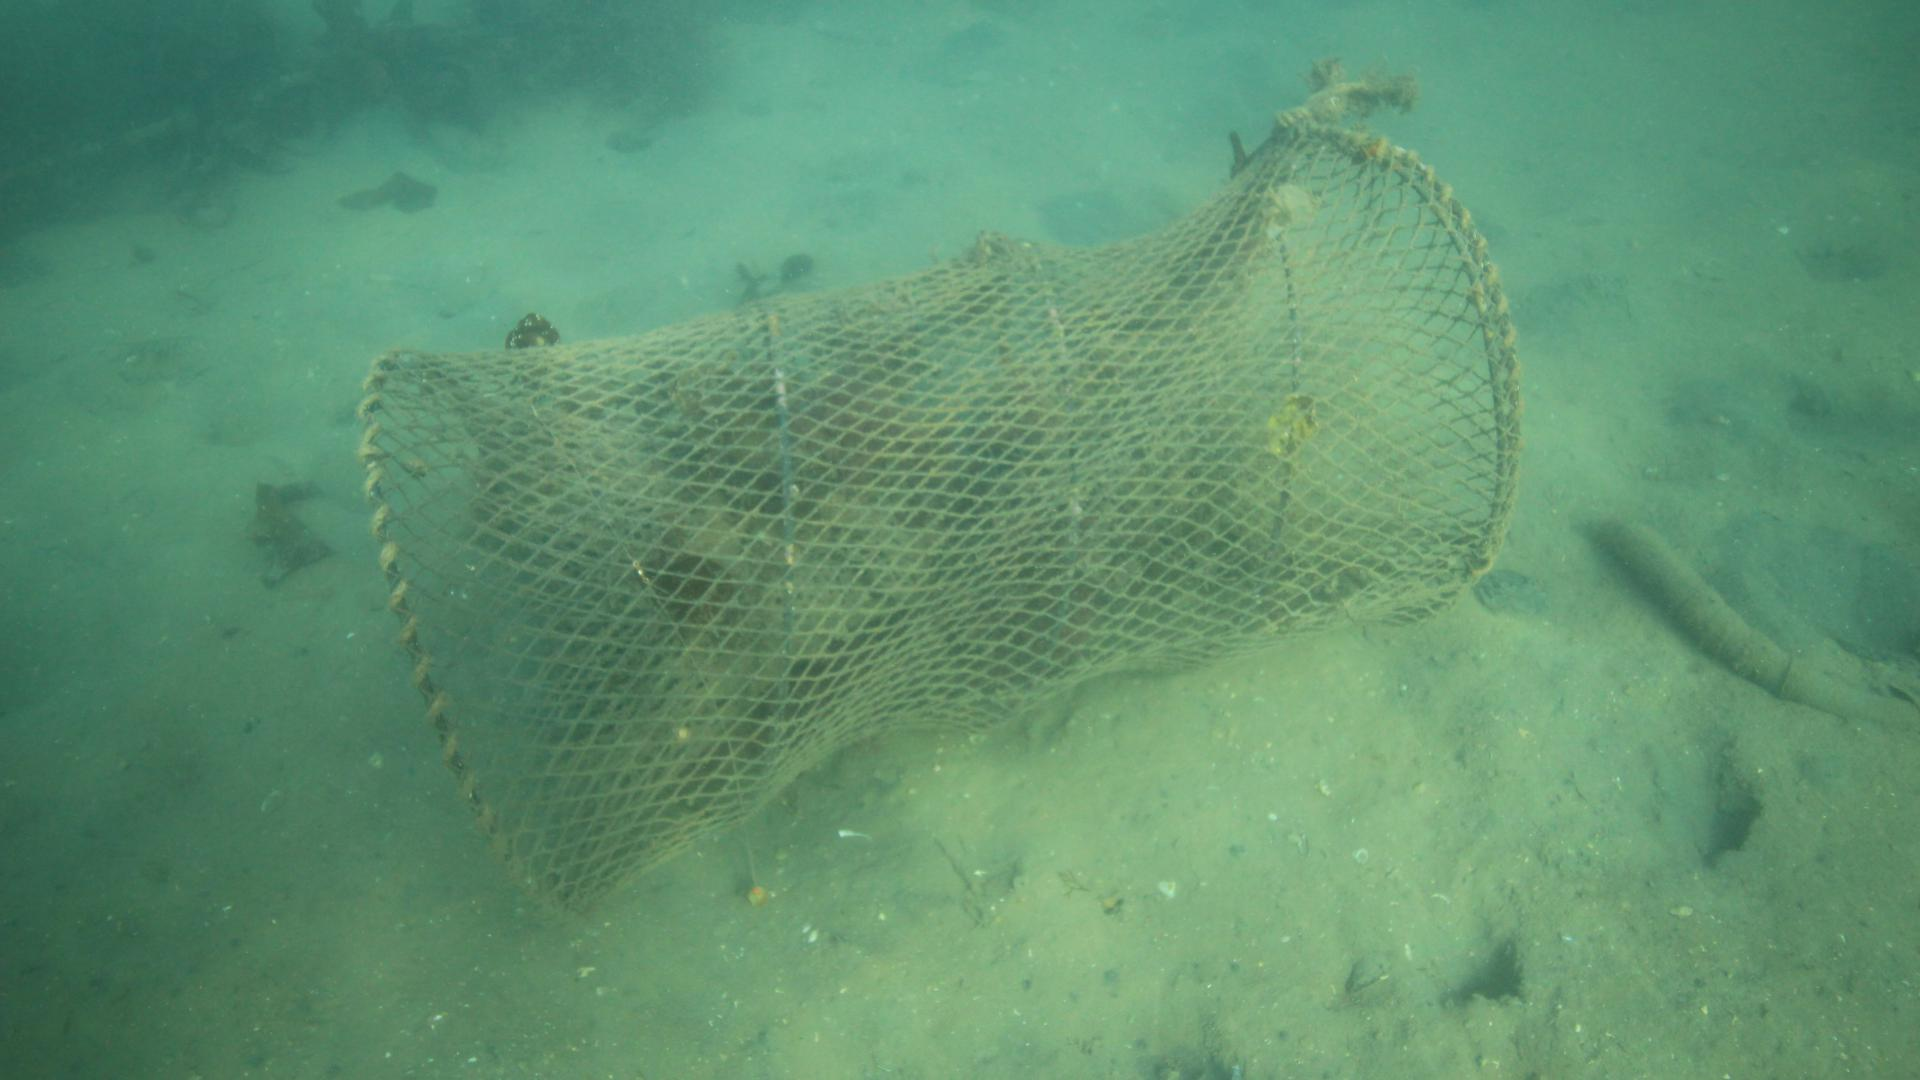spring fish trap: (357, 117, 1523, 920)
